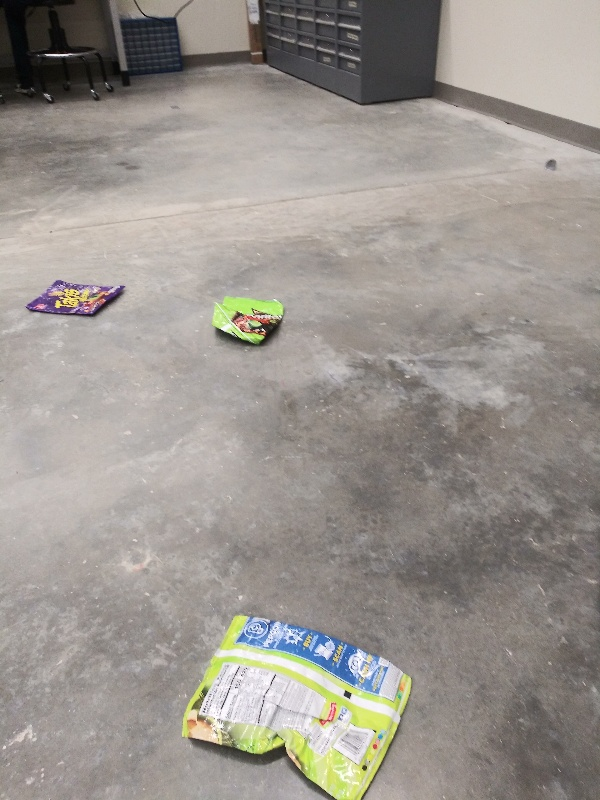bag: (185, 610, 421, 800), (206, 292, 289, 346), (24, 277, 126, 320)
